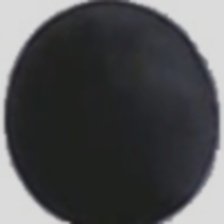grapes: (47, 19, 209, 212)
